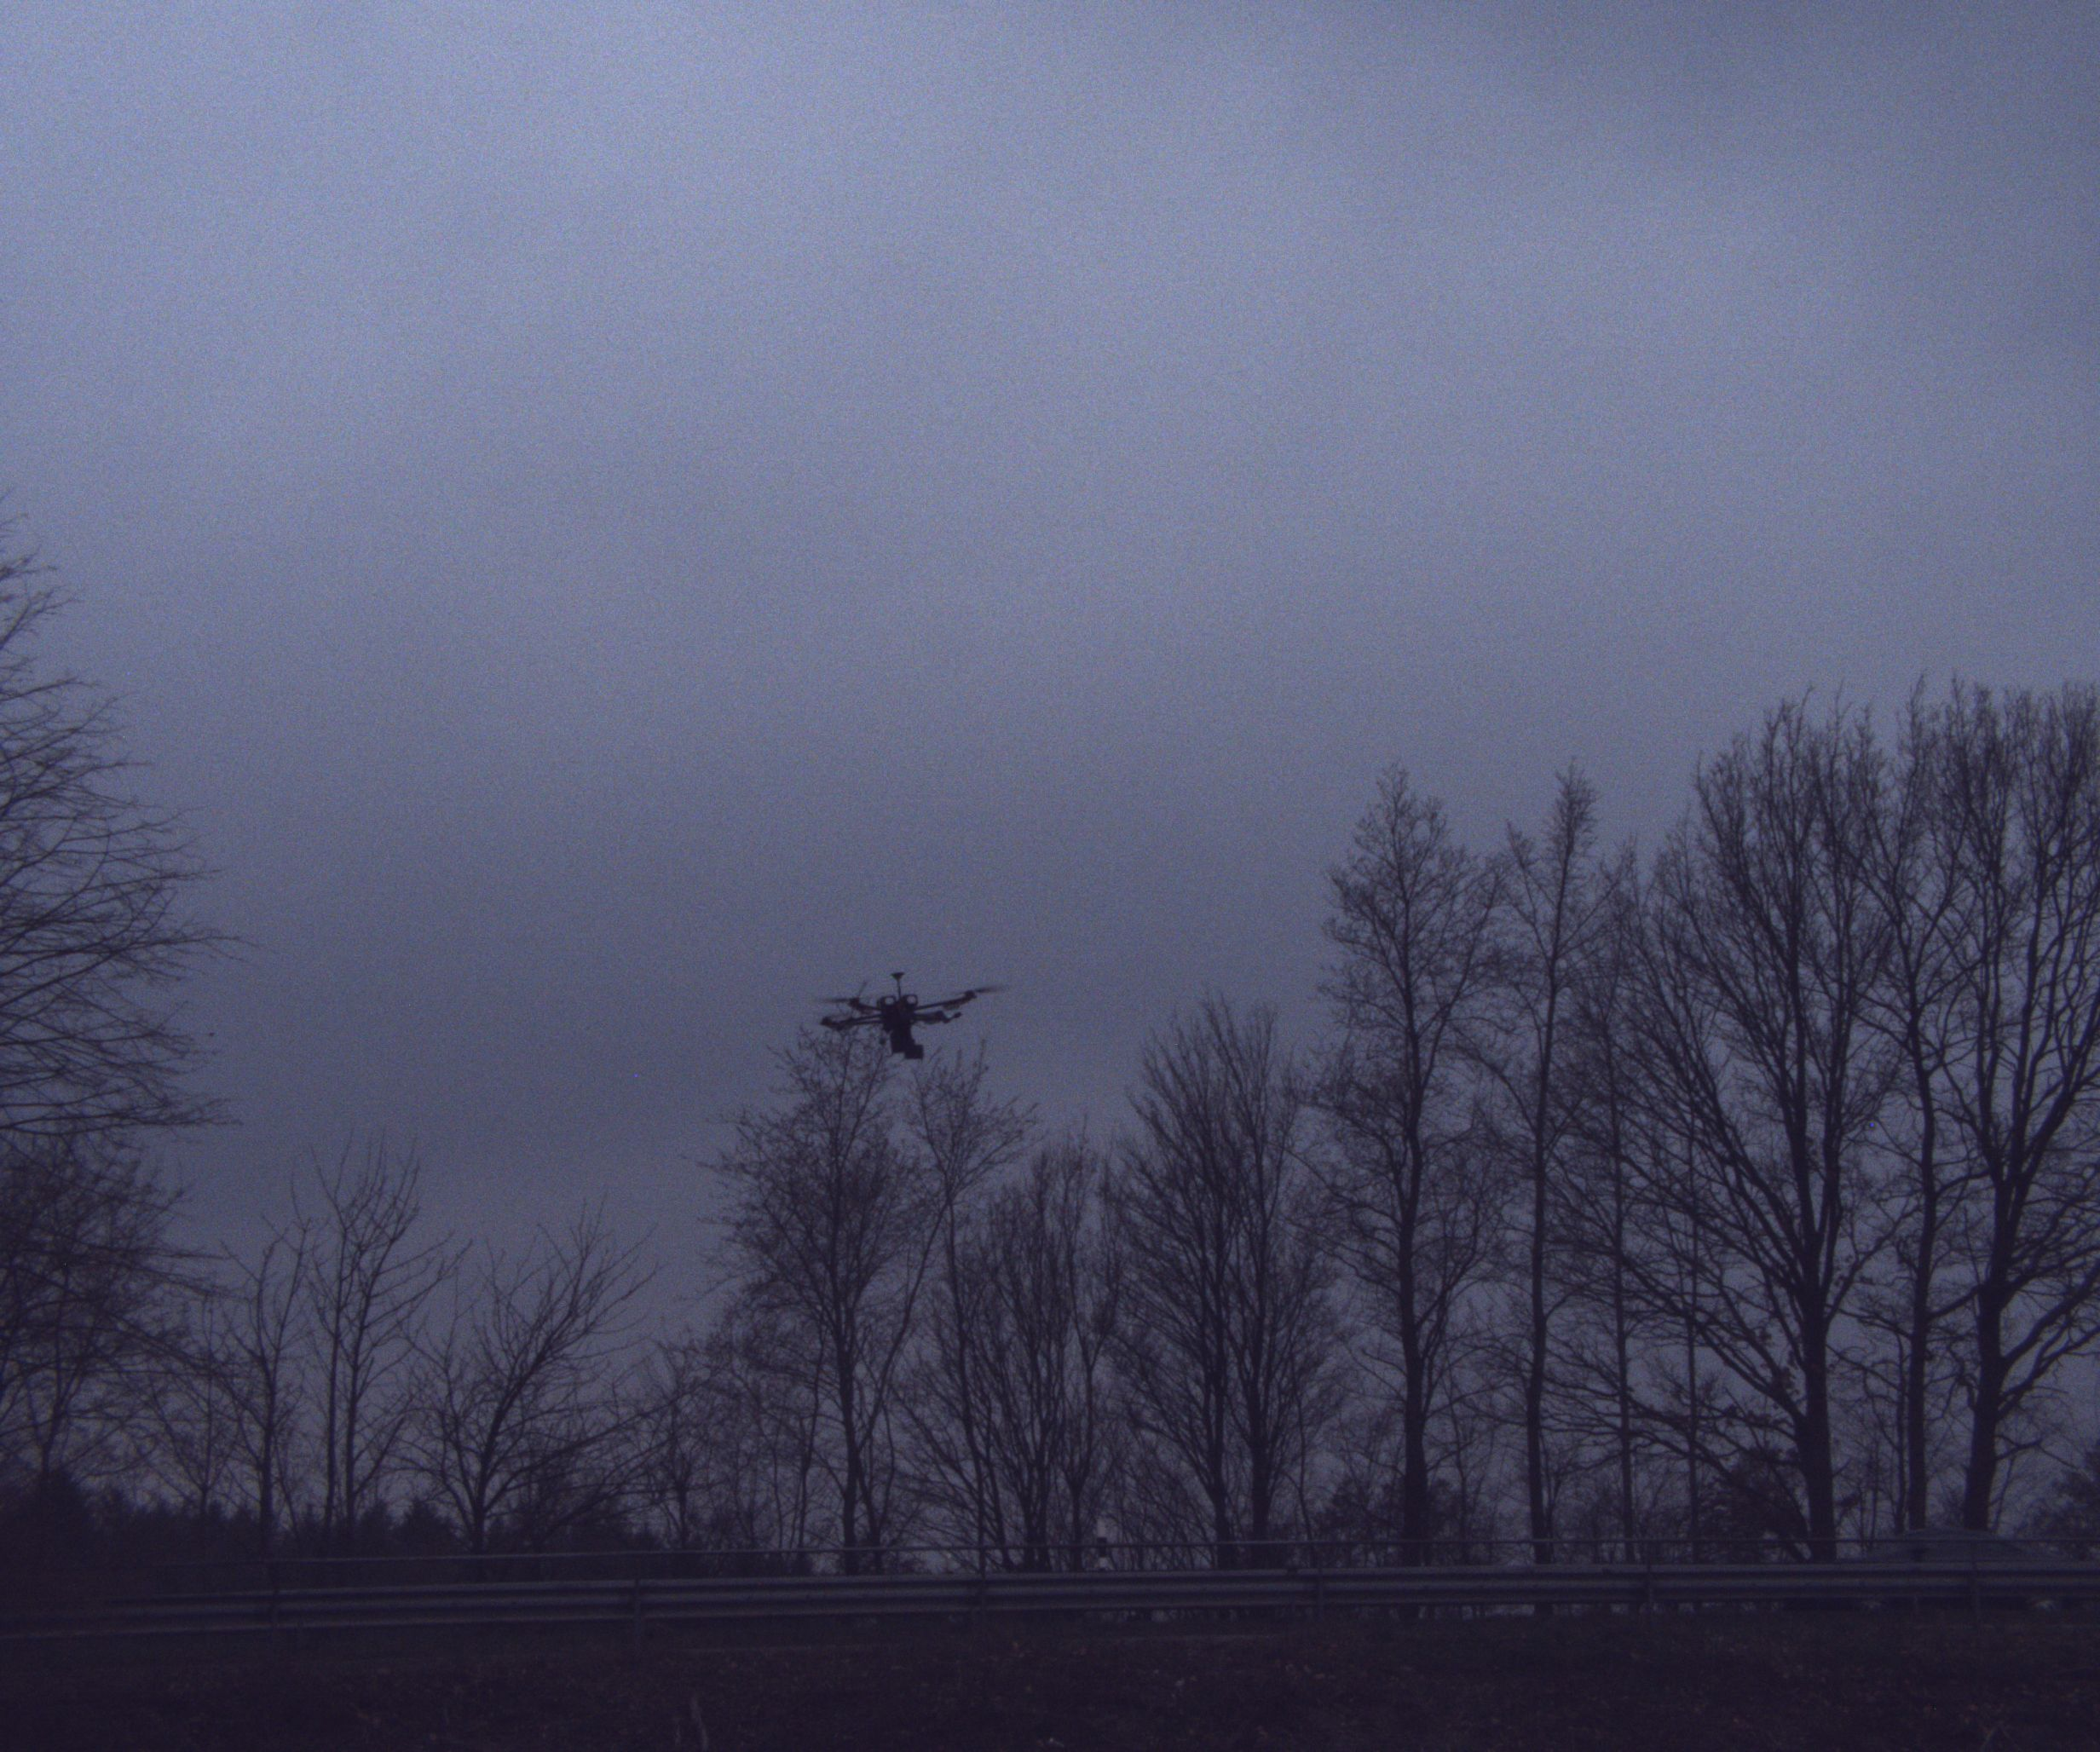Drohne: (801, 973, 1120, 1083)
